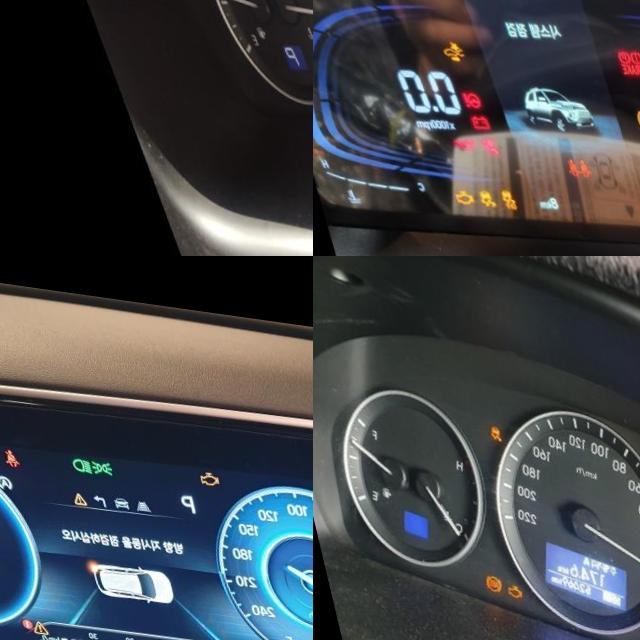Central Warning lamp: (61, 483, 79, 498)
LaneCenteringOff: (124, 489, 143, 504)
Low beam: (63, 448, 85, 467)
SideLamp: (83, 450, 107, 468)
